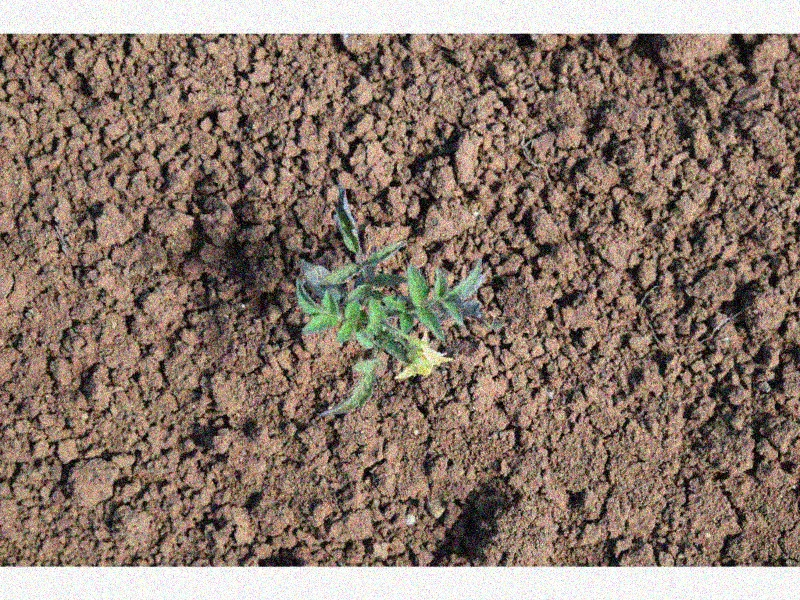tomato: (297, 187, 482, 418)
